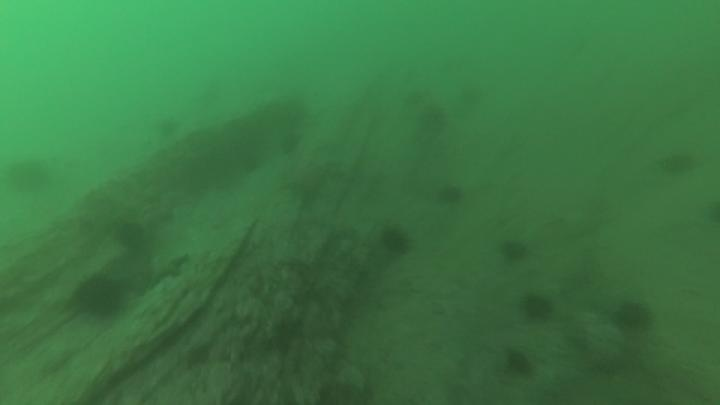echinus: (71, 272, 127, 321), (5, 156, 52, 196), (611, 298, 654, 333), (656, 148, 700, 179), (113, 218, 149, 253), (414, 103, 450, 138), (519, 291, 555, 324), (378, 224, 413, 257), (502, 347, 536, 379), (497, 236, 531, 265), (433, 181, 466, 209), (456, 82, 487, 111), (153, 114, 183, 141), (277, 129, 304, 157)
starfish: (282, 160, 331, 207), (146, 250, 191, 289)
